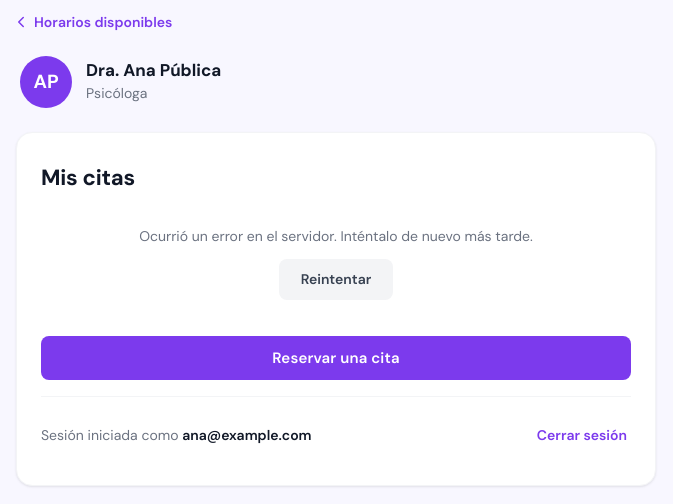
it: PortalAppointmentsPage upcoming appointments › offers a retry when the list fails
Check: the message shows "error en el servidor", box 139,227 -> 533,245
Click the button "Reintentar".
click(336, 280)  # box 279,259 -> 393,300
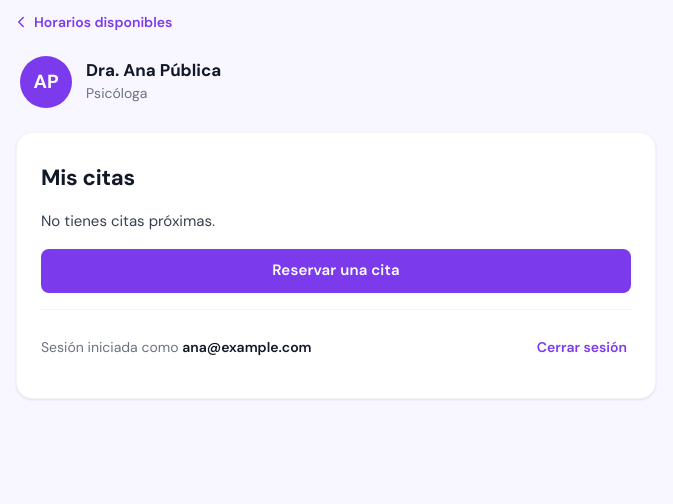
Check: the text "No tienes citas próximas." is shown, box 41,211 -> 215,231
